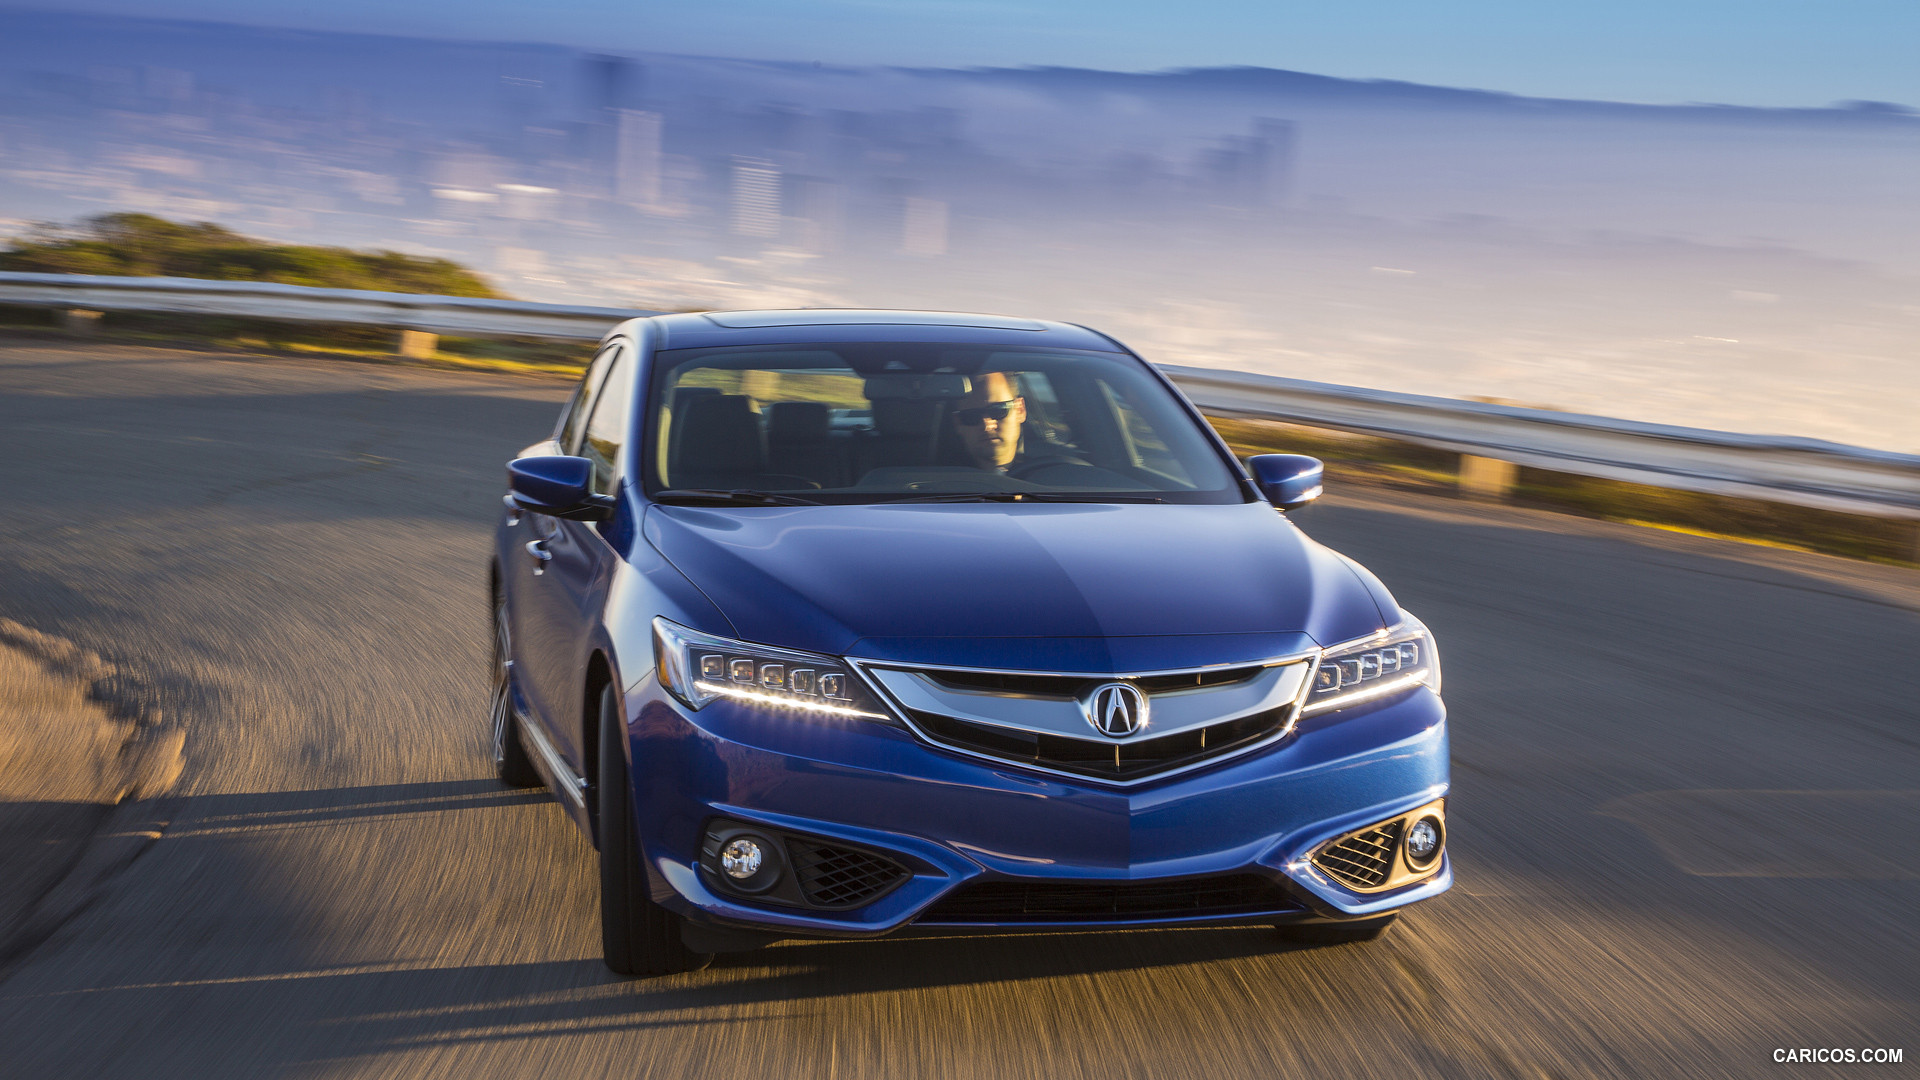Fog Lamp & Scope: (686, 802, 913, 920)
Front: (621, 512, 1457, 939)
Front Bumper: (625, 760, 1468, 938)
Grill: (841, 651, 1327, 793)
Headlight: (646, 611, 910, 742)
